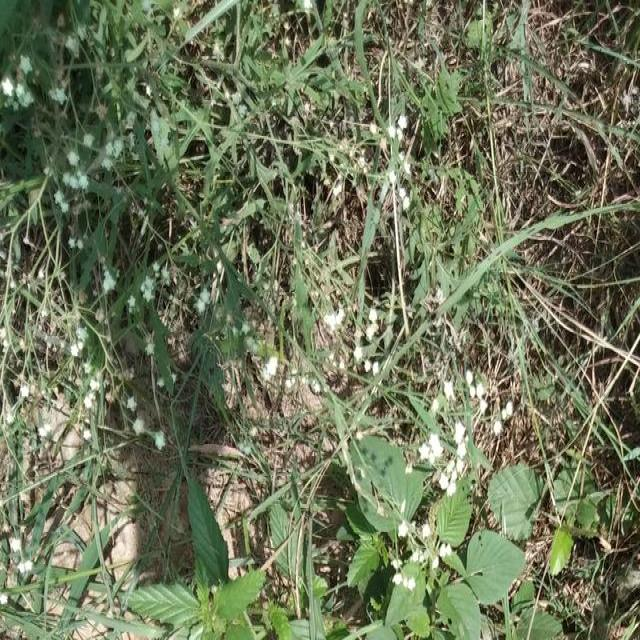weed: (275, 24, 520, 440), (9, 54, 201, 456), (357, 447, 538, 634), (126, 506, 276, 638)
